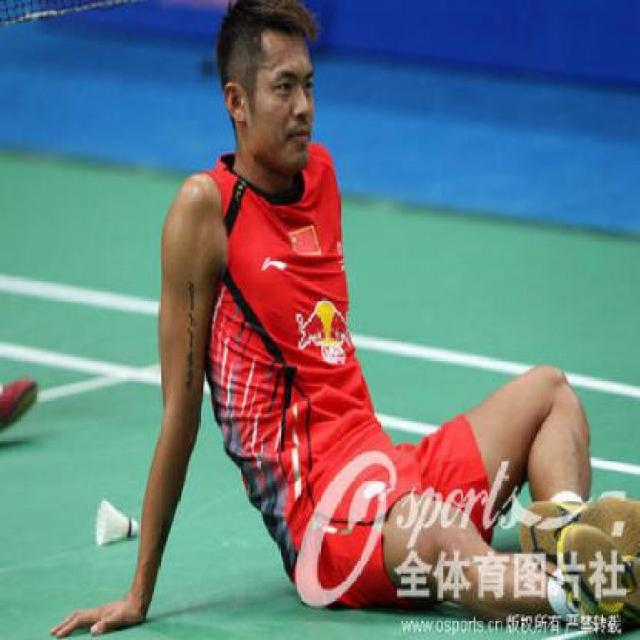fall: (50, 0, 637, 638)
